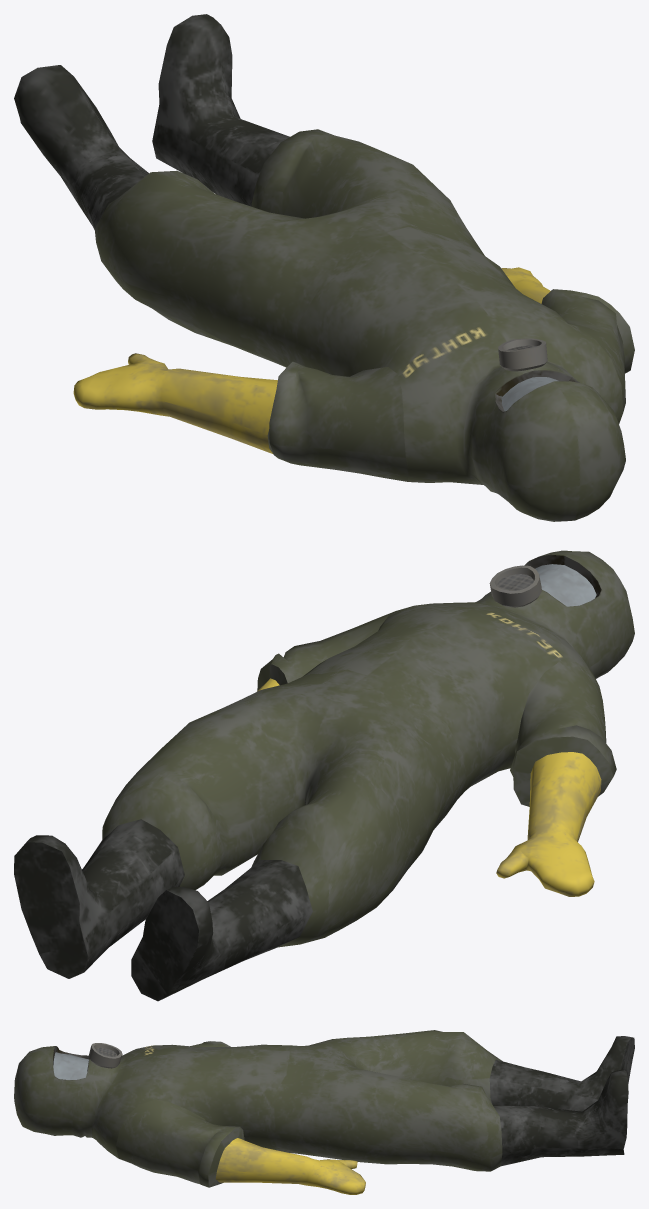
The model's file is KonturGuy_Lies.fbx.
The picture shows the model from 3 angles, top to bottom: view 1: azimuth 30°, elevation 25°; view 2: azimuth 150°, elevation 25°; view 3: azimuth 270°, elevation 25°; orthographic projection. The views are drawn at different scales.
Visible parts, largest first — view 1: KonturGuy_Lies; view 2: KonturGuy_Lies; view 3: KonturGuy_Lies.
Boxes of the visible parts, bbox=[...] form: KonturGuy_Lies: bbox=[14, 14, 634, 521]; KonturGuy_Lies: bbox=[14, 550, 634, 1001]; KonturGuy_Lies: bbox=[14, 1030, 634, 1194].
Size of the model in its own units: 148 by 45.67 by 271.
